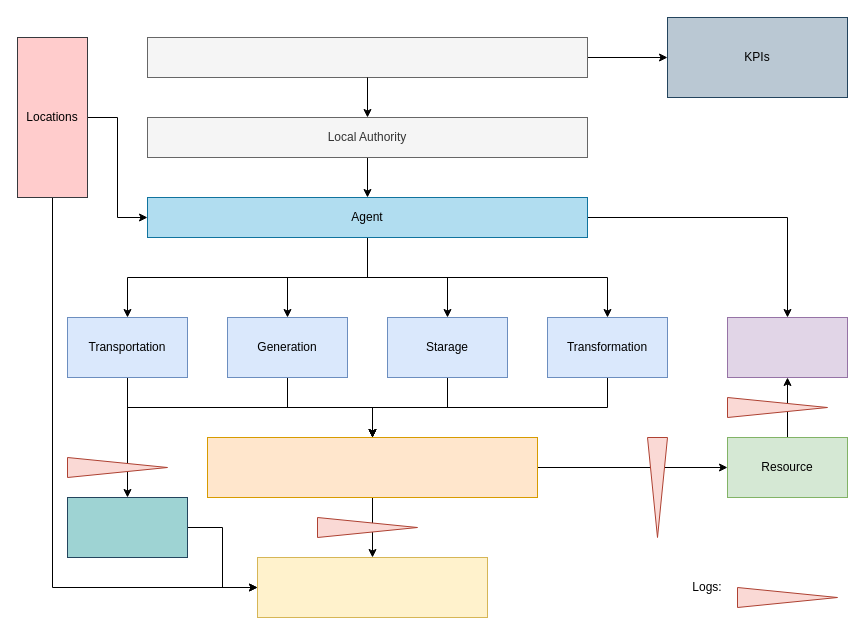
This 865x635 diagram has some shape labels left out. The shapes that lost their labels are listed below. From the top down, each one's centre as x and y in pixels, then its label:
At point 367,57: "Regulatory Body".
At point 787,347: "Re-usage".
At point 372,467: "Waste".
At point 127,527: "Route".
At point 372,587: "Container".
